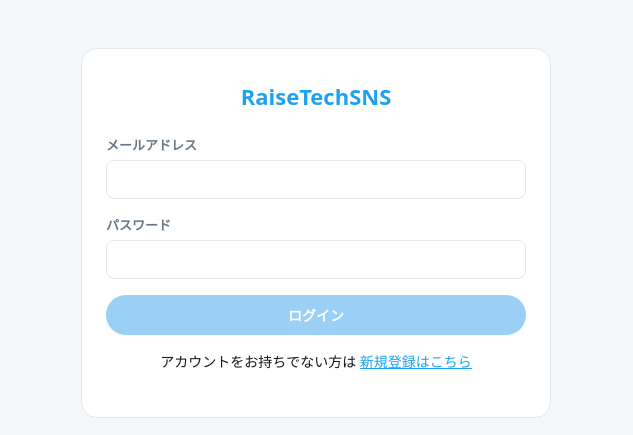
App › ログインに成功するとタイムライン画面に遷移する
expect the heading "RaiseTechSNS" is shown: met, box [241,81,391,111]
Type "taro@example.com" into the field labelled "メールアドレス" at (316, 180), box [106,160,526,199]
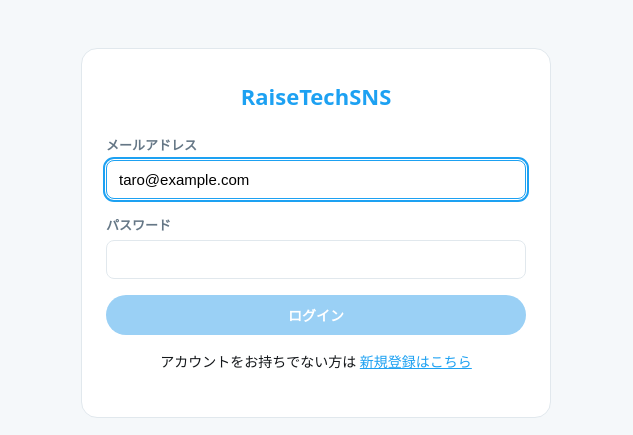
Type "password1" into the password field labelled "パスワード" at (316, 260), box [106,240,526,279]
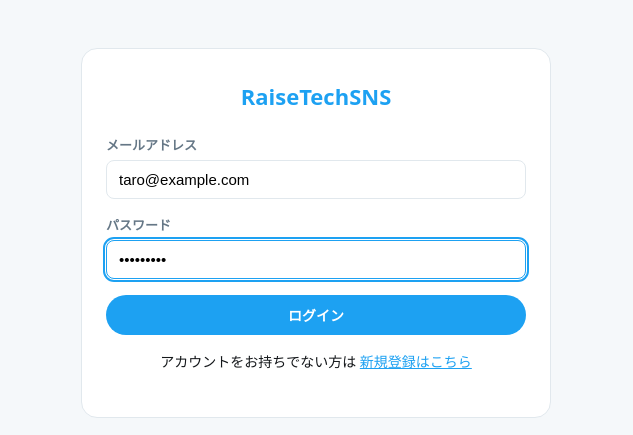
Click the button "ログイン" at (316, 315), box [106,295,526,335]
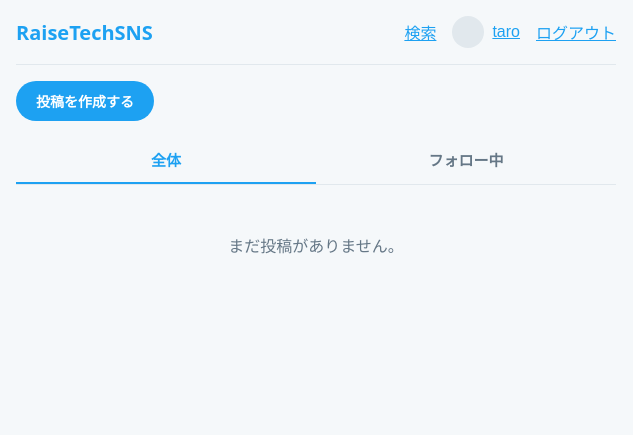
expect the button "ログアウト" is shown: met, box [536,20,616,44]
